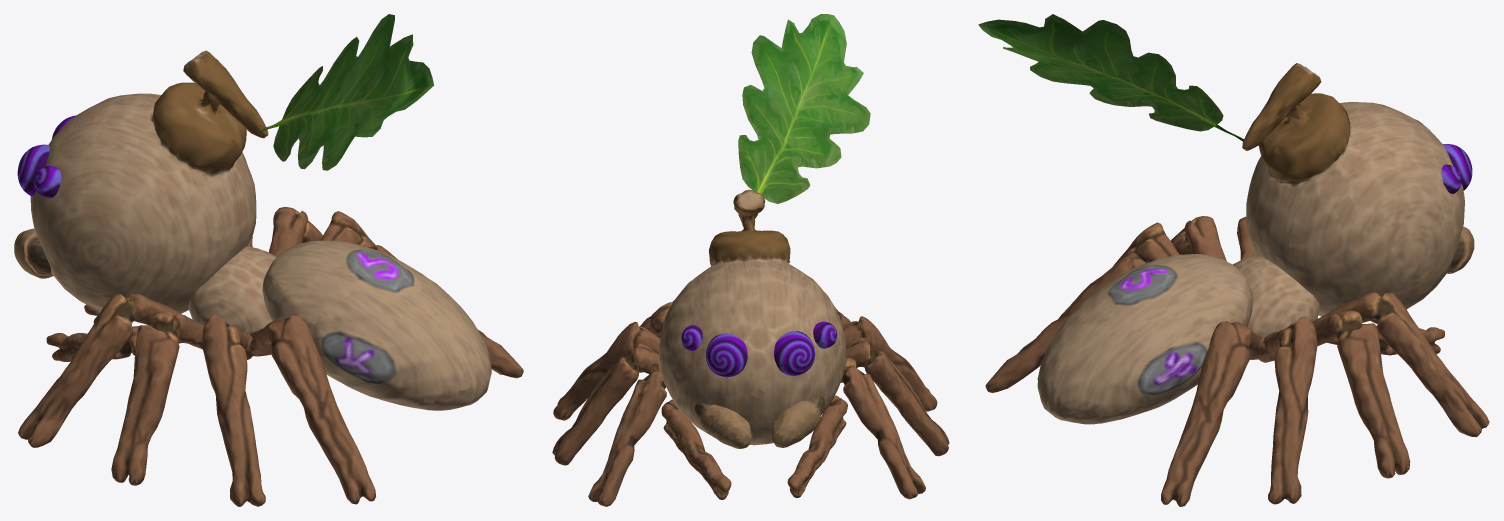
File: sculpture_01.glb
The picture shows the model from 3 angles, left to right: view 1: azimuth 30°, elevation 25°; view 2: azimuth 150°, elevation 25°; view 3: azimuth 270°, elevation 25°; orthographic projection. The views are drawn at different scales.
Visible parts, largest first — view 1: SCL_02_08, SCL_02_01, SCL_02_03, SCL_02_04, SCL_02_06, SCL_02_05, SCL_02_02, SCL_02_07; view 2: SCL_02_08, SCL_02_04, SCL_02_05, SCL_02_01, SCL_02_02, SCL_02_07; view 3: SCL_02_08, SCL_02_05, SCL_02_03, SCL_02_04, SCL_02_01, SCL_02_06, SCL_02_07, SCL_02_02.
Boxes of the visible parts, x1=… form: SCL_02_08: x1=30, y1=50, x2=268, y2=313; SCL_02_01: x1=18, y1=293, x2=375, y2=506; SCL_02_03: x1=262, y1=240, x2=491, y2=410; SCL_02_04: x1=17, y1=14, x2=434, y2=198; SCL_02_06: x1=188, y1=246, x2=276, y2=333; SCL_02_05: x1=247, y1=207, x2=523, y2=378; SCL_02_02: x1=46, y1=304, x2=186, y2=361; SCL_02_07: x1=14, y1=228, x2=53, y2=278; SCL_02_08: x1=659, y1=189, x2=846, y2=445; SCL_02_04: x1=681, y1=14, x2=870, y2=377; SCL_02_05: x1=552, y1=302, x2=672, y2=506; SCL_02_01: x1=834, y1=306, x2=949, y2=499; SCL_02_02: x1=661, y1=395, x2=847, y2=499; SCL_02_07: x1=694, y1=396, x2=824, y2=448; SCL_02_08: x1=1242, y1=63, x2=1464, y2=319; SCL_02_05: x1=1161, y1=291, x2=1489, y2=506; SCL_02_03: x1=1037, y1=254, x2=1253, y2=424; SCL_02_04: x1=978, y1=14, x2=1472, y2=193; SCL_02_01: x1=985, y1=216, x2=1255, y2=392; SCL_02_06: x1=1233, y1=255, x2=1319, y2=359; SCL_02_07: x1=1447, y1=226, x2=1474, y2=273; SCL_02_02: x1=1327, y1=319, x2=1444, y2=355.
Size of the model in its own units: 0.7633 by 0.7062 by 0.7837.
2 materials, 2 textured.
